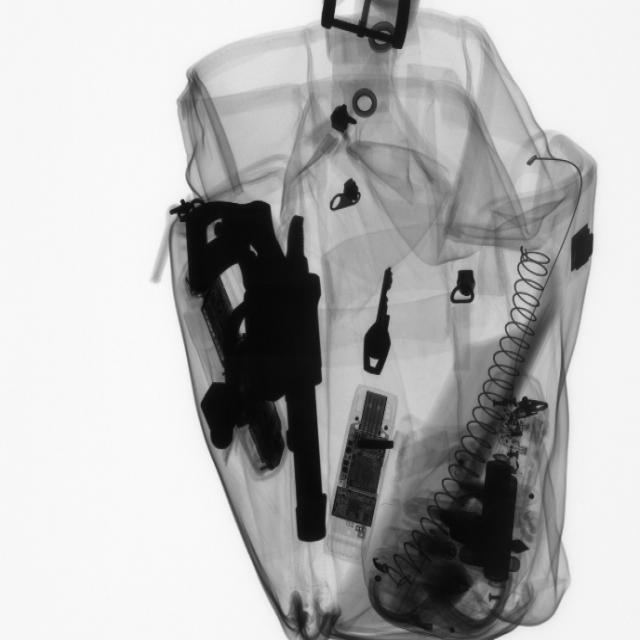GUN: (198, 199, 328, 559)
